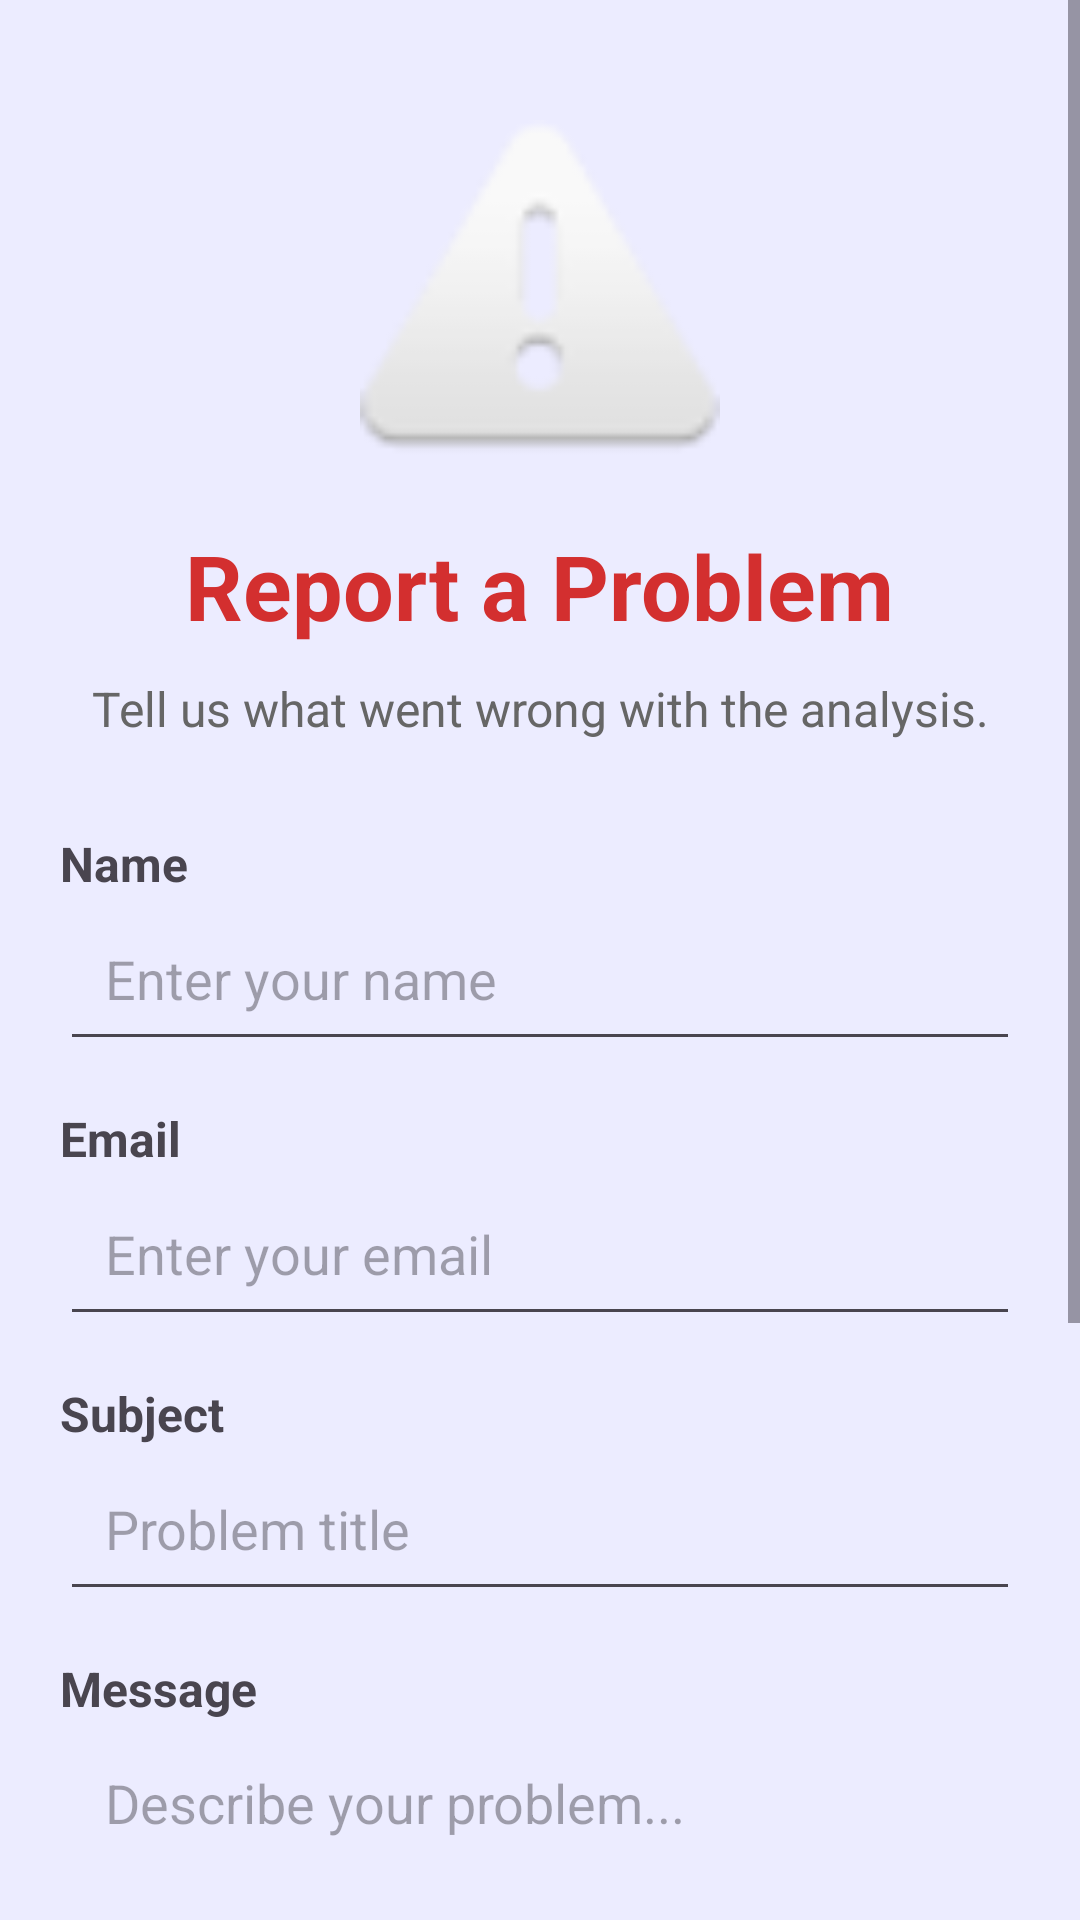

Where icons sit on this 1080px x 1920px app screen, as [x1,y1,x2,y2]:
alert: [360,203,720,446]
